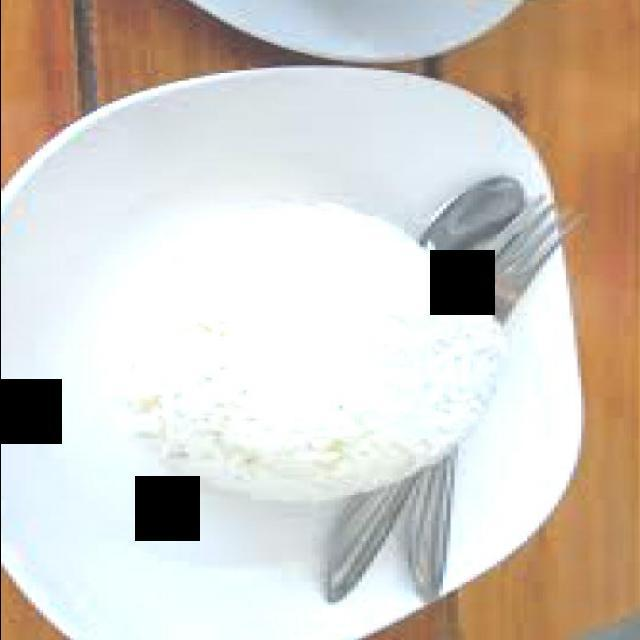rice: (115, 209, 507, 503)
